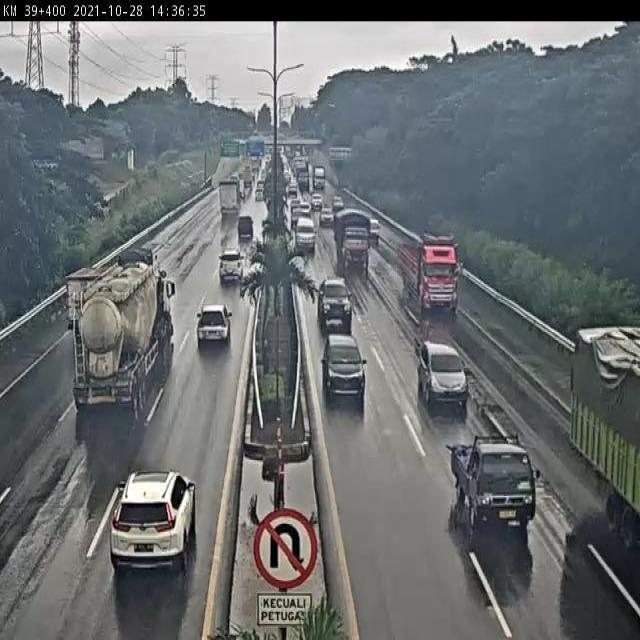ARABA: (115, 457, 200, 584), (444, 419, 530, 504), (191, 296, 232, 363), (323, 324, 361, 396), (413, 330, 458, 390), (216, 237, 237, 295), (319, 270, 345, 314), (237, 213, 257, 243), (299, 217, 318, 248)
TIR: (79, 245, 159, 416), (337, 207, 374, 289), (401, 239, 455, 285), (220, 183, 242, 216)
